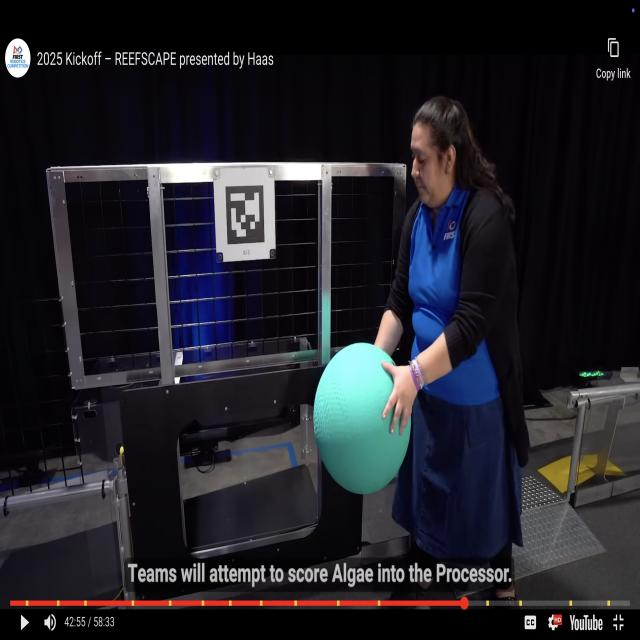algae: (313, 343, 410, 495)
